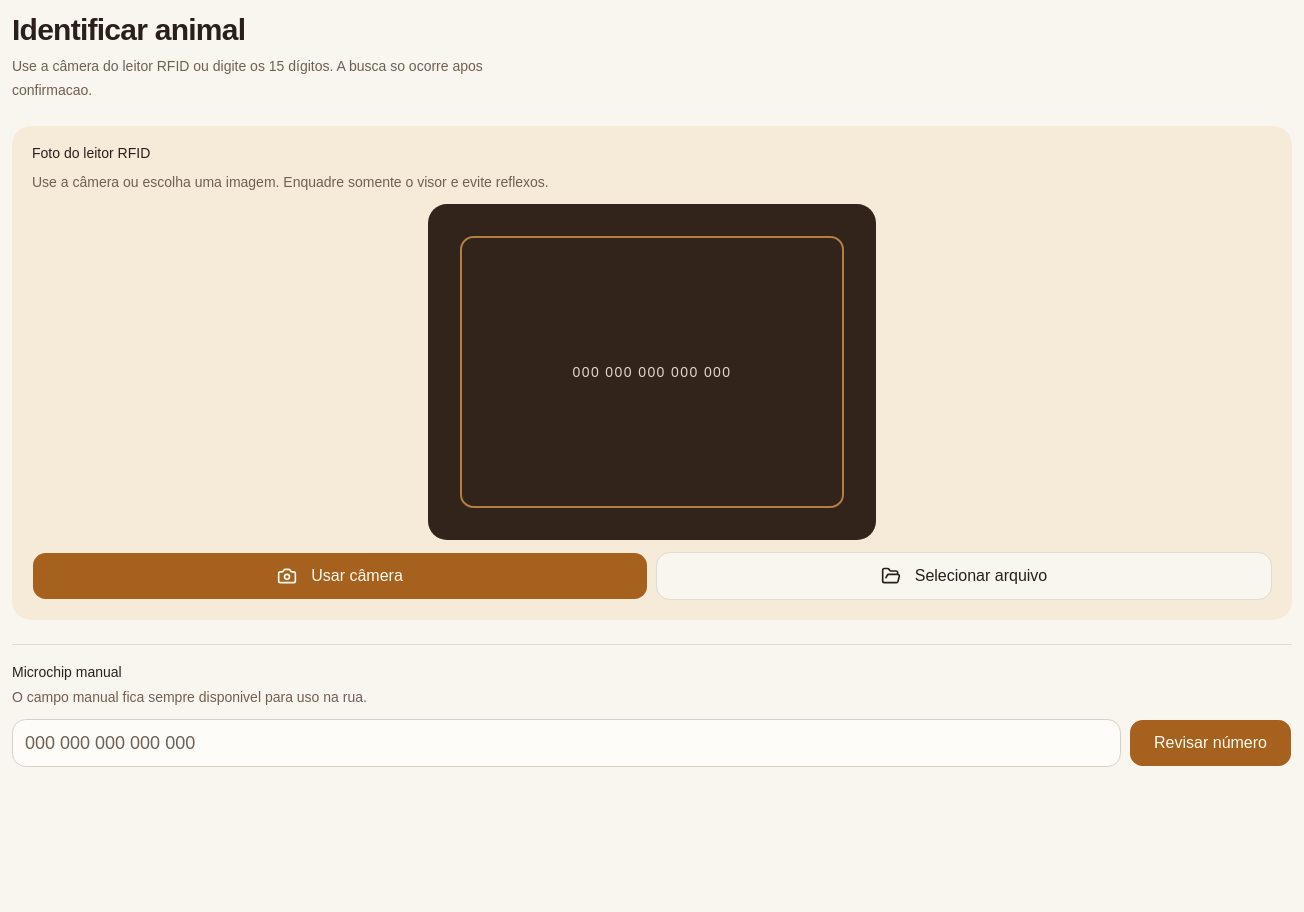
Test: IdentifyPage › mostra campo manual e etapa de confirmacao
The width and height of the screenshot is (1304, 912).
In the field labelled "Microchip manual": (567,743) x1=12 y1=719 x2=1121 y2=767, type "956000013141707"
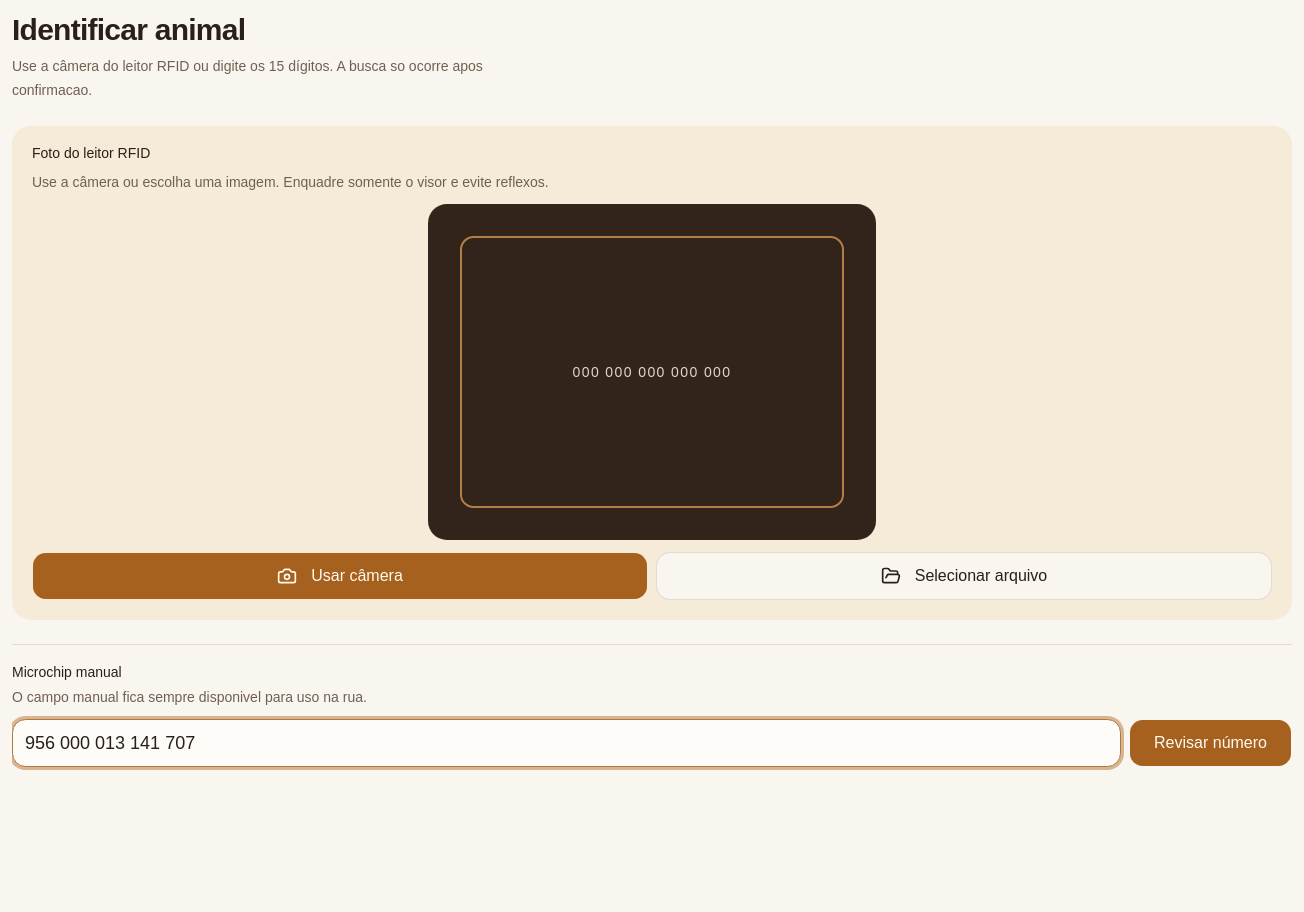
Click the button "Revisar número": (1211,743) x1=1129 y1=719 x2=1292 y2=767
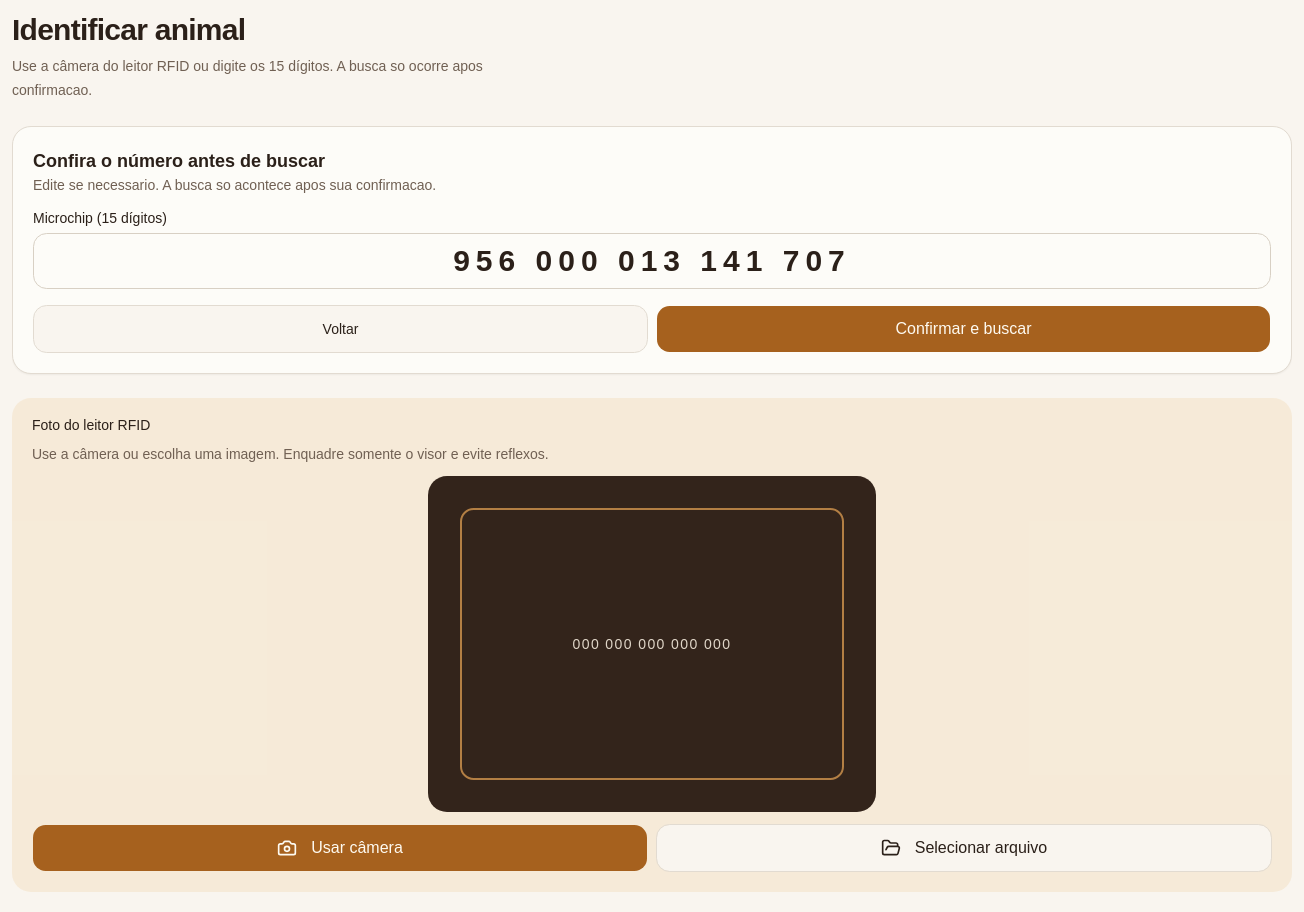
Result: the heading "Confira o número antes de buscar" is shown at x1=33 y1=151 x2=325 y2=171
